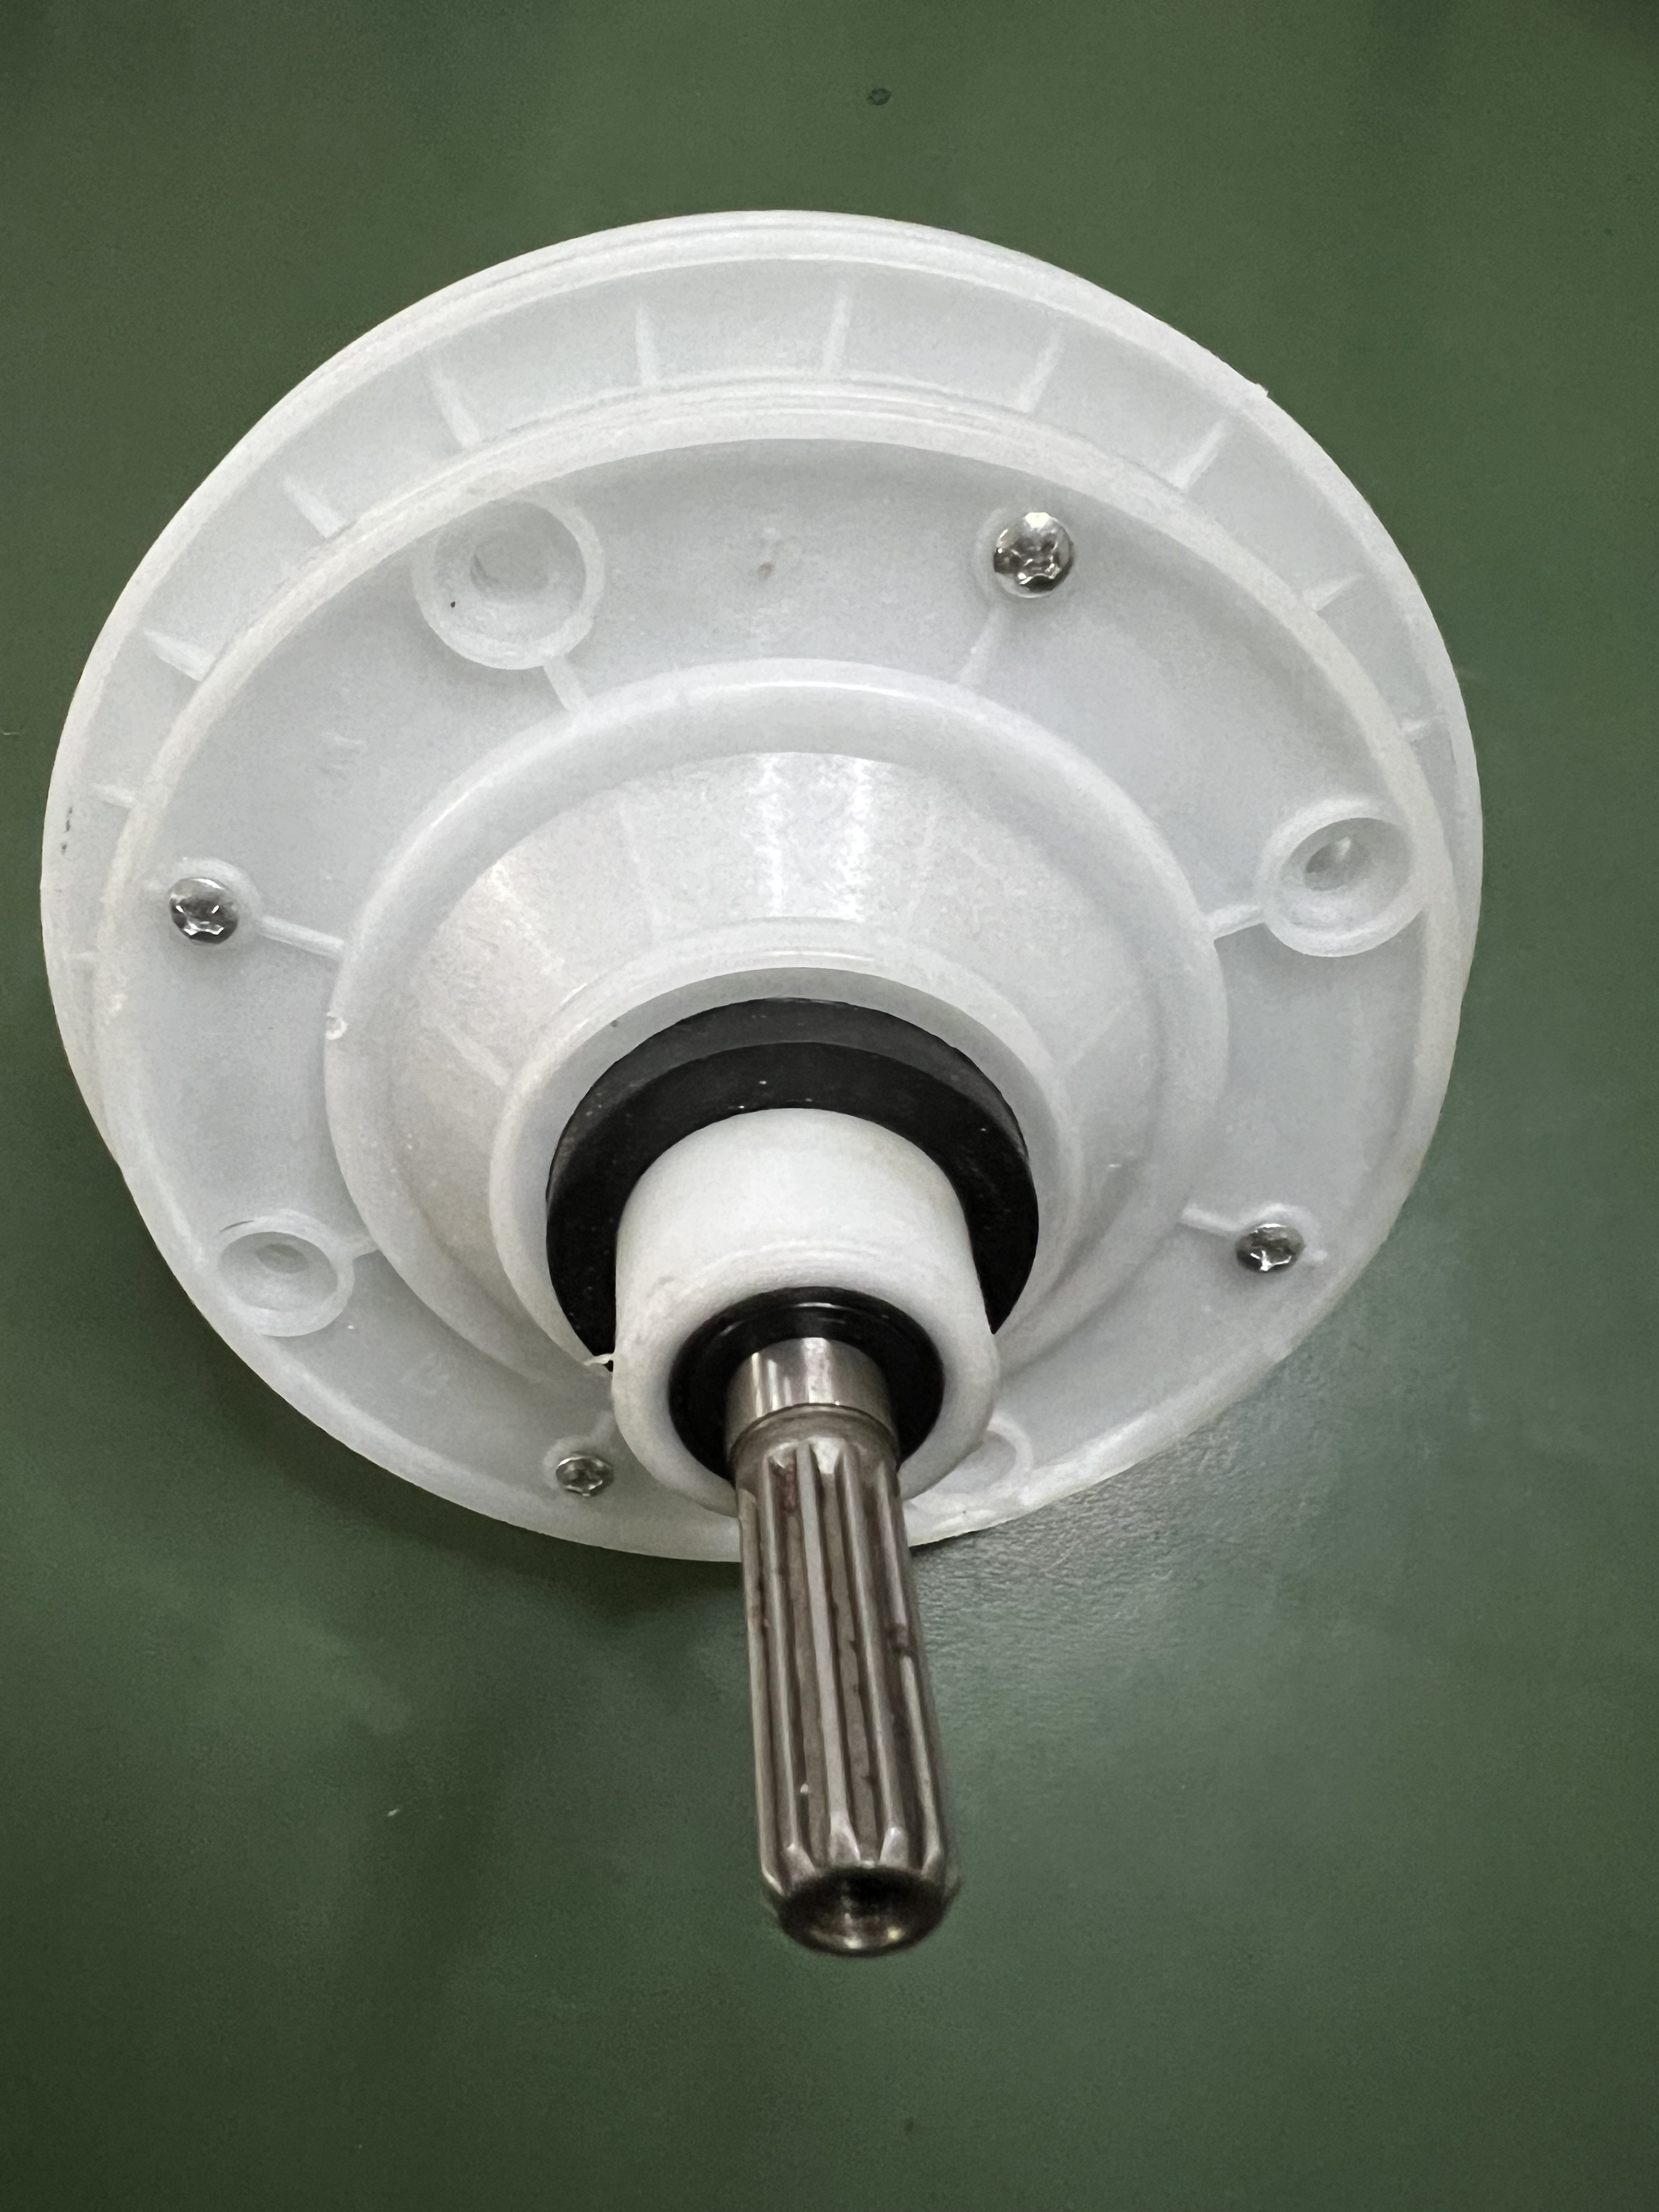gear_box_circle: (56, 199, 1485, 1949)
